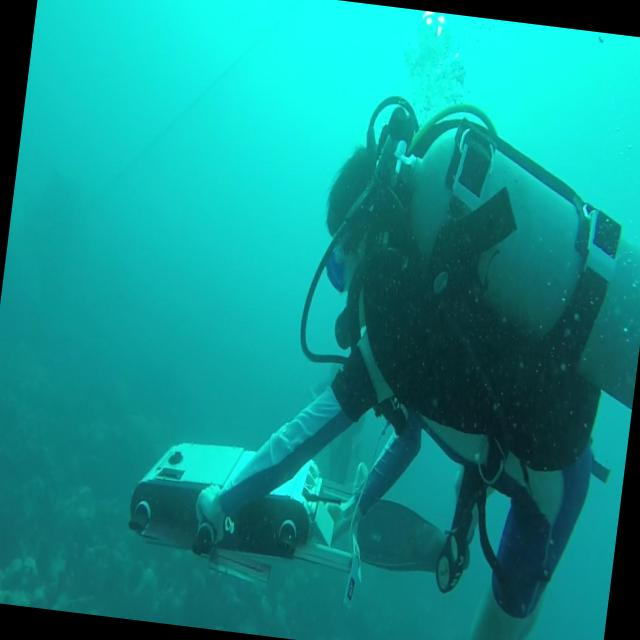human: (179, 75, 640, 640)
